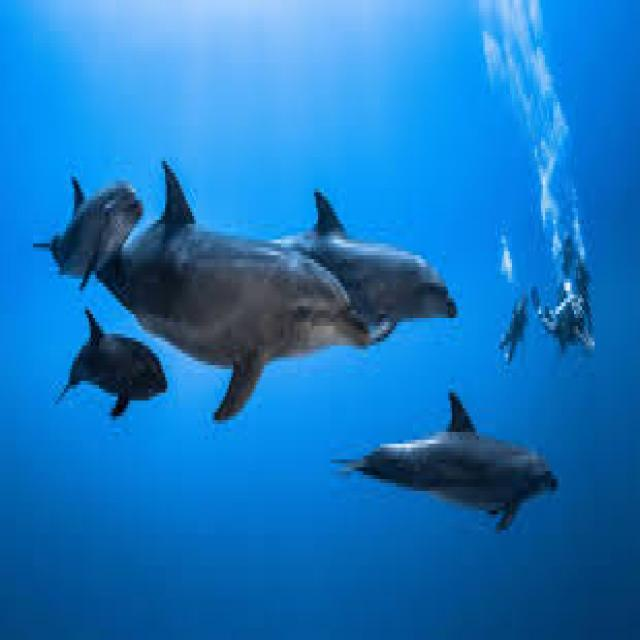dolphin: (83, 184, 394, 353), (338, 412, 564, 566), (52, 318, 170, 444)
